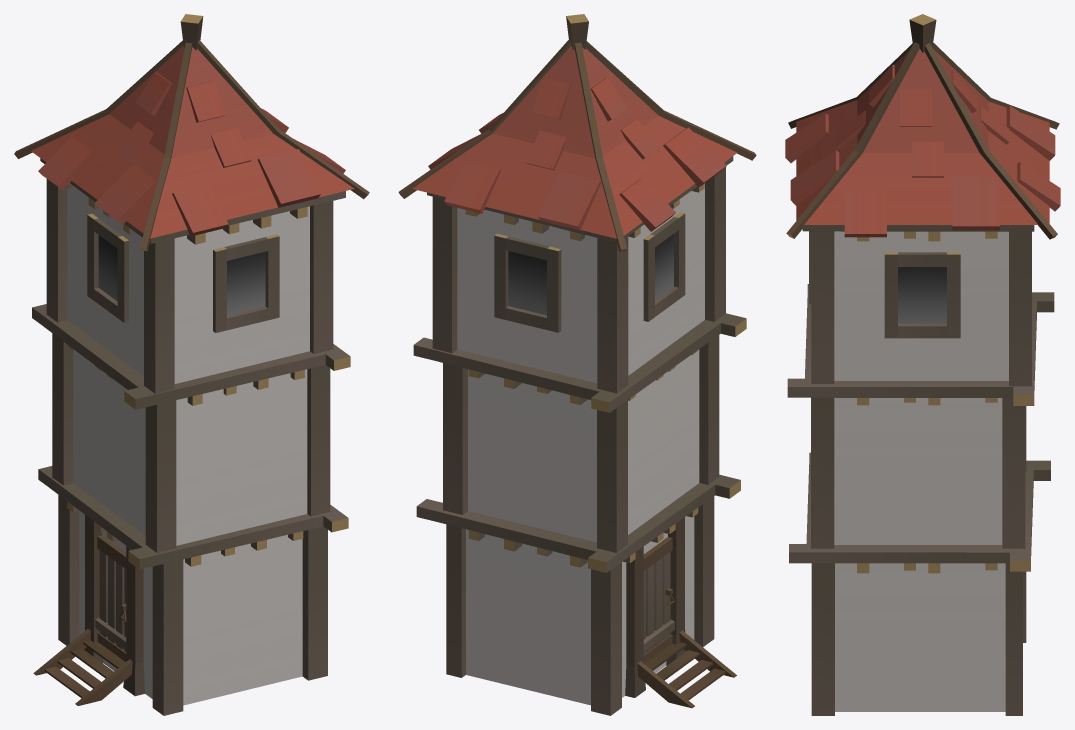
File: House_13.fbx
3 renders of one model, left to right at view 1: azimuth 30°, elevation 25°; view 2: azimuth 150°, elevation 25°; view 3: azimuth 270°, elevation 25°, orthographic. The views are drawn at different scales.
Parts seen in each view (by area): view 1: polySurface9622; view 2: polySurface9622; view 3: polySurface9622.
Part boxes in pixels (box(x1,y1,x2,y2)): polySurface9622: box(14, 14, 369, 715); polySurface9622: box(398, 14, 756, 715); polySurface9622: box(785, 14, 1060, 715).
Bounding box in the file's own units: 500 × 1206 × 459.
